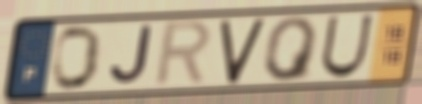J: (107, 23, 154, 88)
O: (50, 23, 105, 93)
Q: (262, 14, 322, 84)
R: (150, 17, 216, 90)
U: (318, 12, 376, 80)
V: (218, 15, 269, 87)
